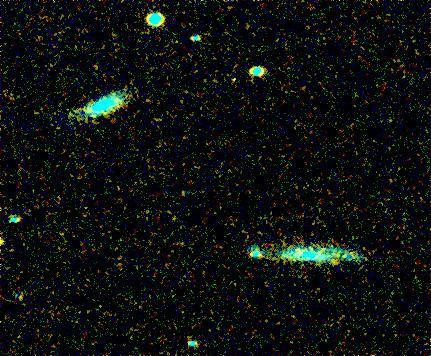star: (319, 247, 349, 277)
